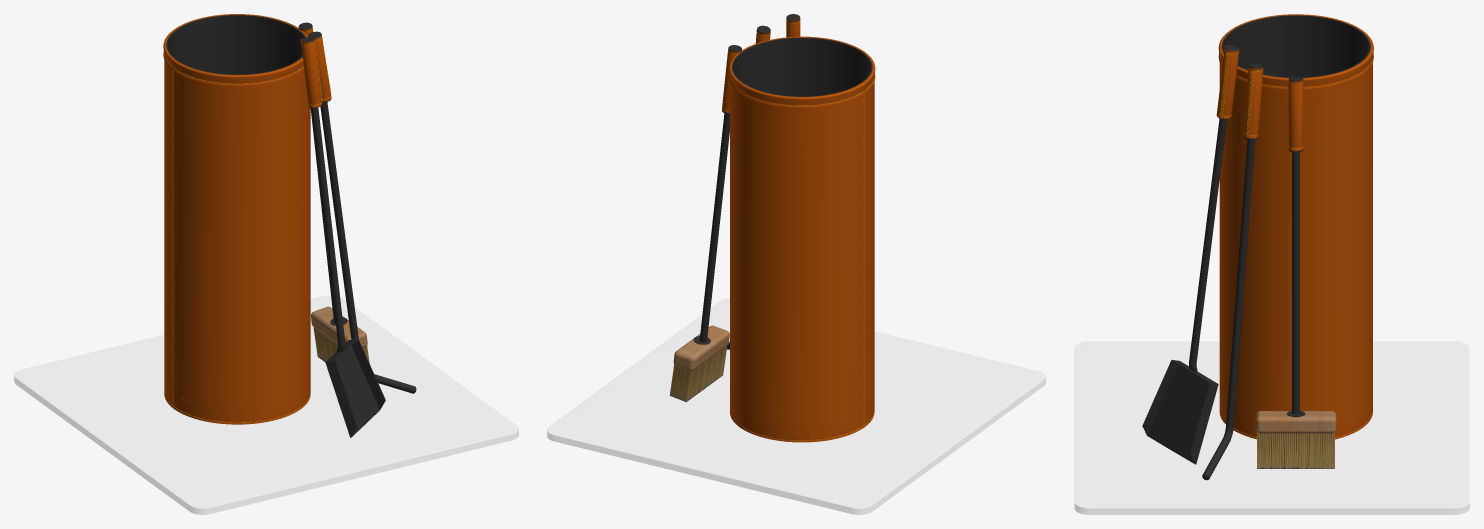
The model's file is kamin.glb.
3 views of the same model, side by side, from view 1: azimuth 30°, elevation 25°; view 2: azimuth 150°, elevation 25°; view 3: azimuth 270°, elevation 25° (orthographic). The views are drawn at different scales.
Visible parts, largest first — view 1: Boole, Box 2, Tube, Cube_1, Cylinder_4, Cylinder, RUCHKA, Box_1, RUCHKA_1; view 2: Boole, Box 2, Tube, Cylinder_1, Box_3_-_baked, Box_1; view 3: Boole, Box 2, Tube, Cube_1, Cylinder_4, Box_3_-_baked, Cylinder, Cylinder_1, Box_1, RUCHKA_2, RUCHKA_1, RUCHKA.
Boxes of the visible parts, <box> form: Boole: <box>163,14,310,424</box>; Box 2: <box>14,295,518,514</box>; Tube: <box>166,15,305,74</box>; Cube_1: <box>325,338,385,437</box>; Cylinder_4: <box>320,102,416,393</box>; Cylinder: <box>311,107,345,352</box>; RUCHKA: <box>300,37,322,107</box>; Box_1: <box>311,306,367,347</box>; RUCHKA_1: <box>307,35,331,101</box>; Boole: <box>729,36,875,442</box>; Box 2: <box>547,298,1045,514</box>; Tube: <box>732,37,872,96</box>; Cylinder_1: <box>699,113,729,342</box>; Box_3_-_baked: <box>670,346,727,402</box>; Box_1: <box>673,325,729,370</box>; Boole: <box>1218,14,1373,439</box>; Box 2: <box>1074,341,1469,514</box>; Tube: <box>1221,15,1370,77</box>; Cube_1: <box>1142,360,1218,464</box>; Cylinder_4: <box>1202,139,1255,480</box>; Box_3_-_baked: <box>1257,432,1334,468</box>; Cylinder: <box>1189,118,1226,372</box>; Cylinder_1: <box>1292,152,1299,414</box>; Box_1: <box>1255,411,1336,433</box>; RUCHKA_2: <box>1288,79,1303,151</box>; RUCHKA_1: <box>1243,66,1263,138</box>; RUCHKA: <box>1216,45,1239,118</box>.
Size of the model in its own units: 0.05 by 0.0552 by 0.05.
26 materials, 3 textured.
